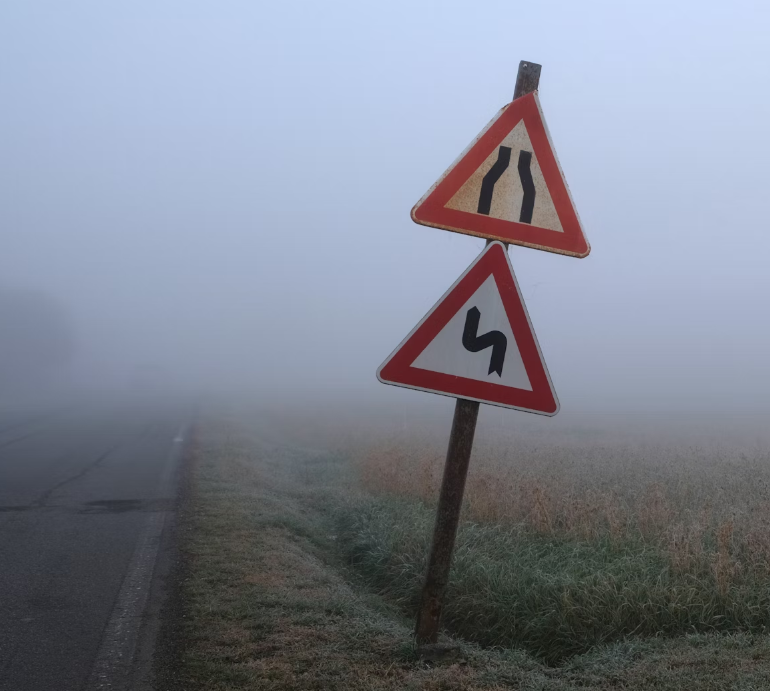Curve Road: (353, 238, 579, 434)
Narrow road ahead: (395, 81, 598, 256)
